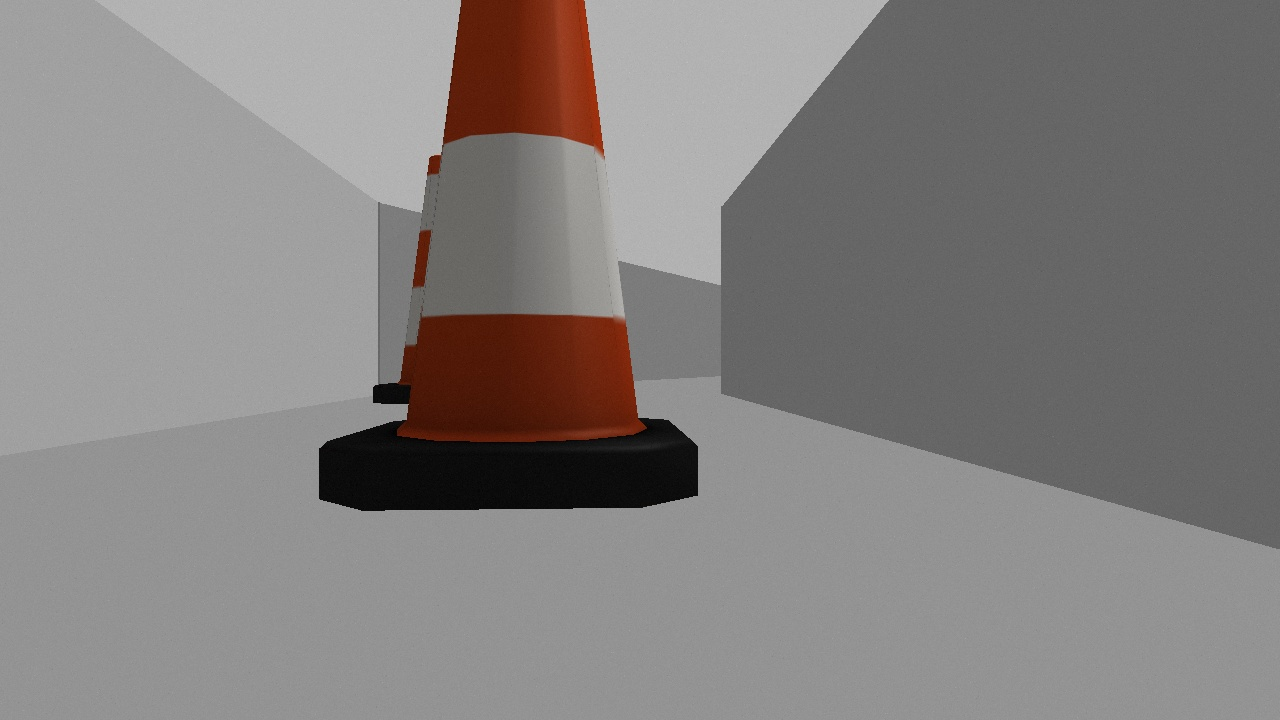barricade: (276, 1, 716, 524), (368, 153, 484, 415)
